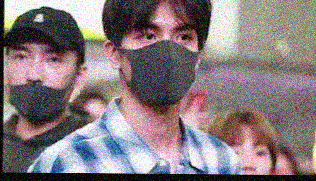mask_weared_incorrect: (5, 45, 79, 123)
with_mask: (117, 17, 199, 106)
without_mask: (227, 137, 272, 173)
